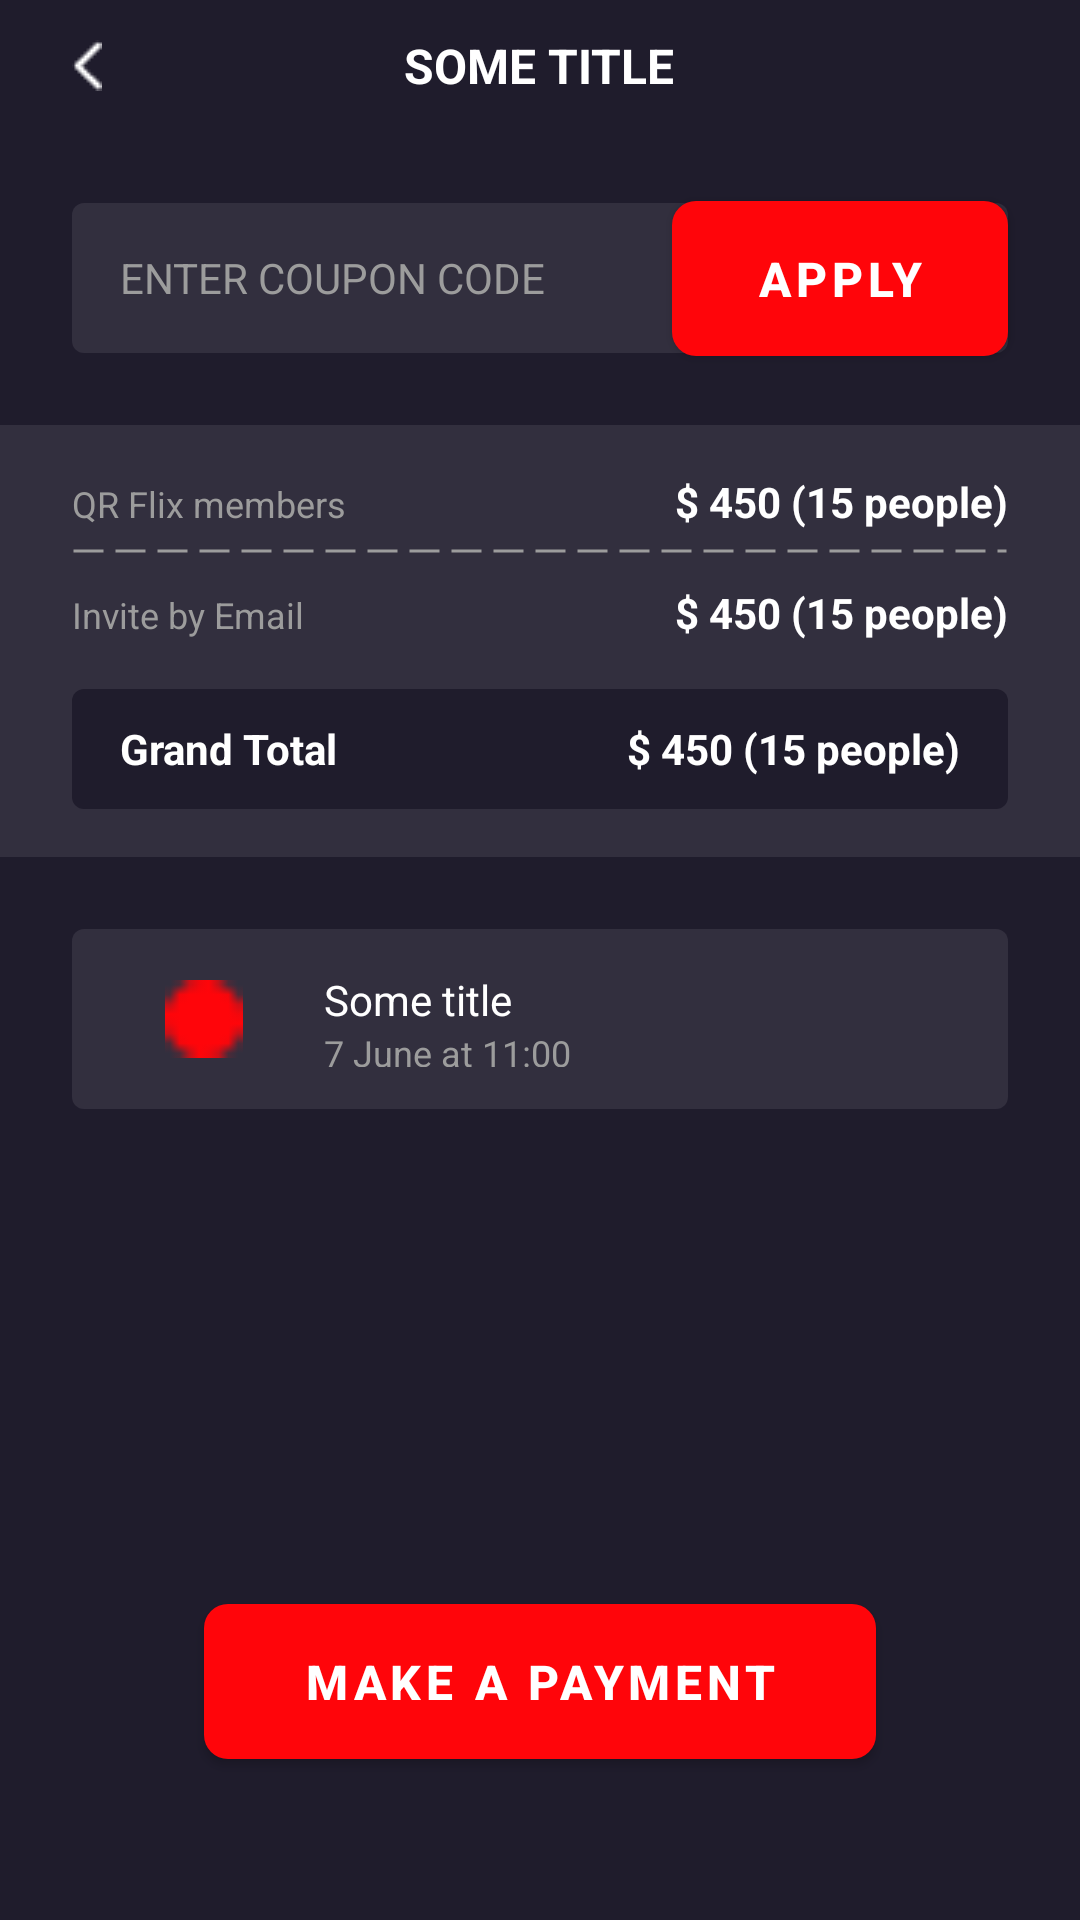

Named icons in this screenshot (1080px x 1920px) and their centers, (x,y):
back: (88,66)
ball: (204,1019)
